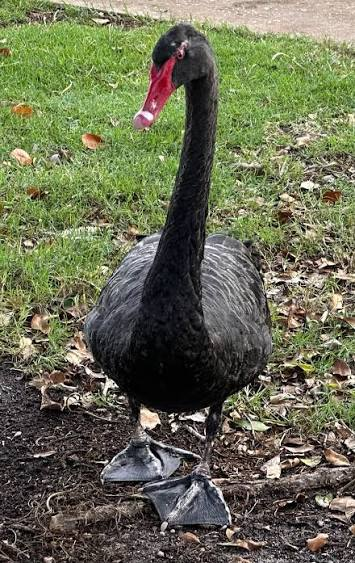black_swan: (86, 24, 272, 527)
